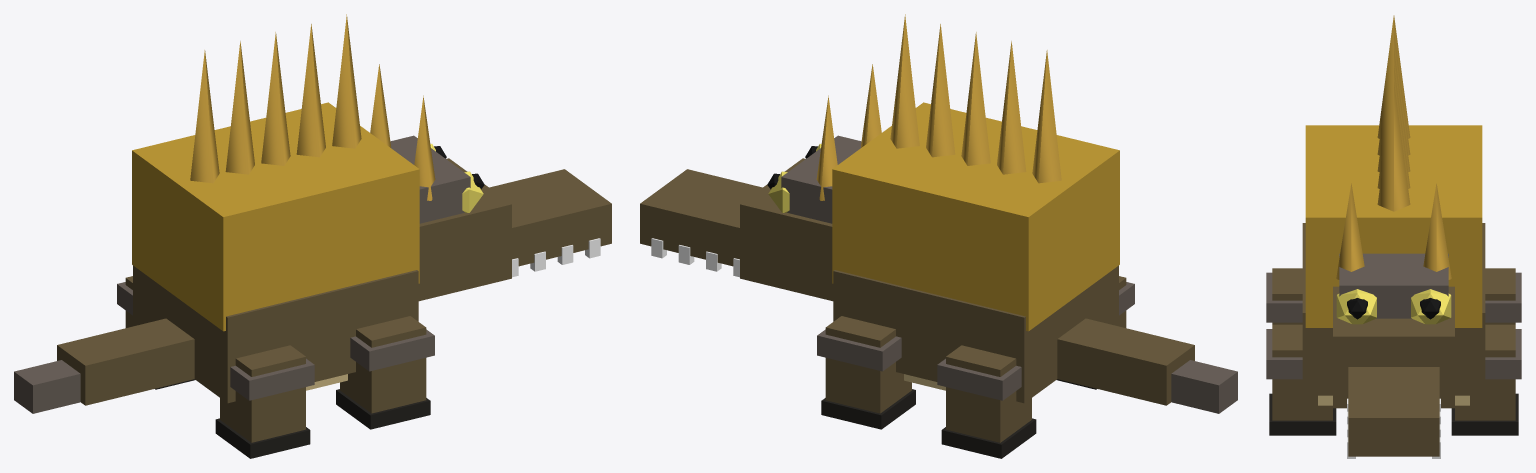
The model's file is level3.glb.
3 views of the same model, side by side, from view 1: azimuth 30°, elevation 25°; view 2: azimuth 150°, elevation 25°; view 3: azimuth 270°, elevation 25° (orthographic). The views are drawn at different scales.
Bounding box in the file's own units: 3.1 × 1.88 × 1.26.
